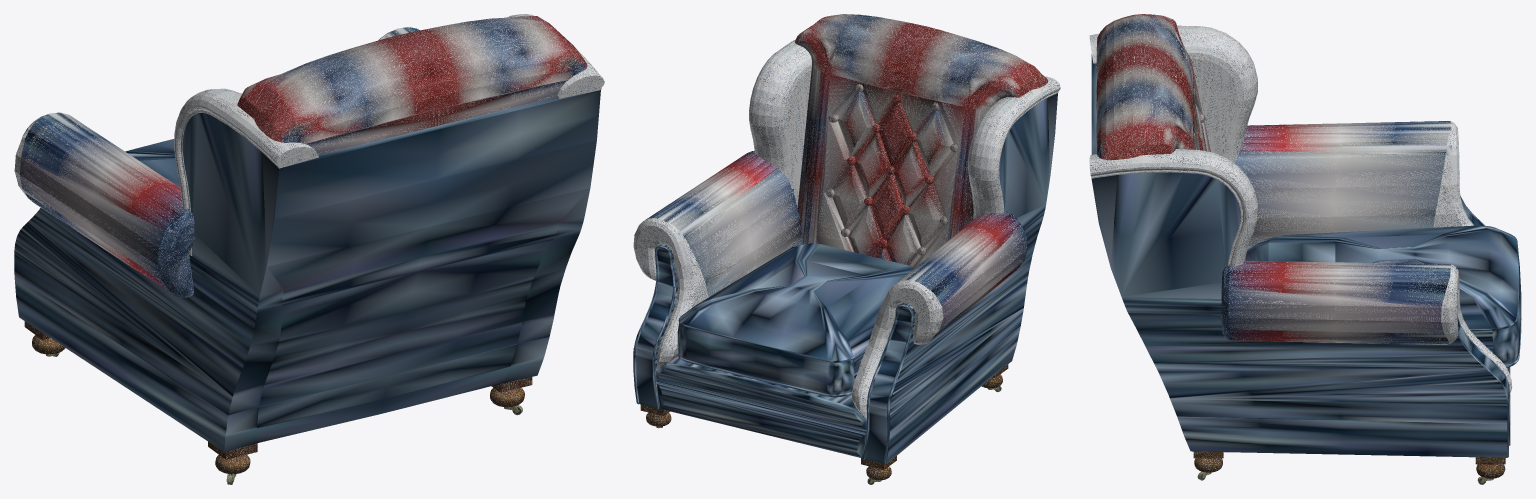
The model's file is chair.obj.
The picture shows the model from 3 angles, left to right: view 1: azimuth 30°, elevation 25°; view 2: azimuth 150°, elevation 25°; view 3: azimuth 270°, elevation 25°; orthographic projection. The views are drawn at different scales.
Visible parts, largest first — view 1: None_dDFmh0eqeWDX, None_dDFQbvvkFQpP, None_dDFipJZmrzzc, None_dDEOZW3FRfrg, None_dDGwn8Jmi3vR; view 2: None_dDFmh0eqeWDX, None_dDFQbvvkFQpP, None_dDEOZW3FRfrg, None_dDFipJZmrzzc, None_dDGwn8Jmi3vR; view 3: None_dDFmh0eqeWDX, None_dDFipJZmrzzc, None_dDEOZW3FRfrg, None_dDFQbvvkFQpP, None_dDGwn8Jmi3vR.
Boxes of the visible parts, bbox=[...] form: None_dDFmh0eqeWDX: bbox=[14, 14, 603, 451]; None_dDFQbvvkFQpP: bbox=[237, 16, 587, 154]; None_dDFipJZmrzzc: bbox=[19, 27, 419, 297]; None_dDEOZW3FRfrg: bbox=[14, 14, 604, 483]; None_dDGwn8Jmi3vR: bbox=[24, 321, 532, 474]; None_dDFmh0eqeWDX: bbox=[633, 40, 1059, 464]; None_dDFQbvvkFQpP: bbox=[795, 14, 1047, 267]; None_dDEOZW3FRfrg: bbox=[633, 14, 1060, 482]; None_dDFipJZmrzzc: bbox=[645, 150, 1027, 340]; None_dDGwn8Jmi3vR: bbox=[640, 364, 1008, 480]; None_dDFmh0eqeWDX: bbox=[1090, 26, 1521, 457]; None_dDFipJZmrzzc: bbox=[1221, 121, 1452, 344]; None_dDEOZW3FRfrg: bbox=[1089, 14, 1512, 484]; None_dDFQbvvkFQpP: bbox=[1096, 14, 1210, 160]; None_dDGwn8Jmi3vR: bbox=[1193, 451, 1505, 478].
Bounding box in the file's own units: 0.5687 × 0.5624 × 0.6003.
